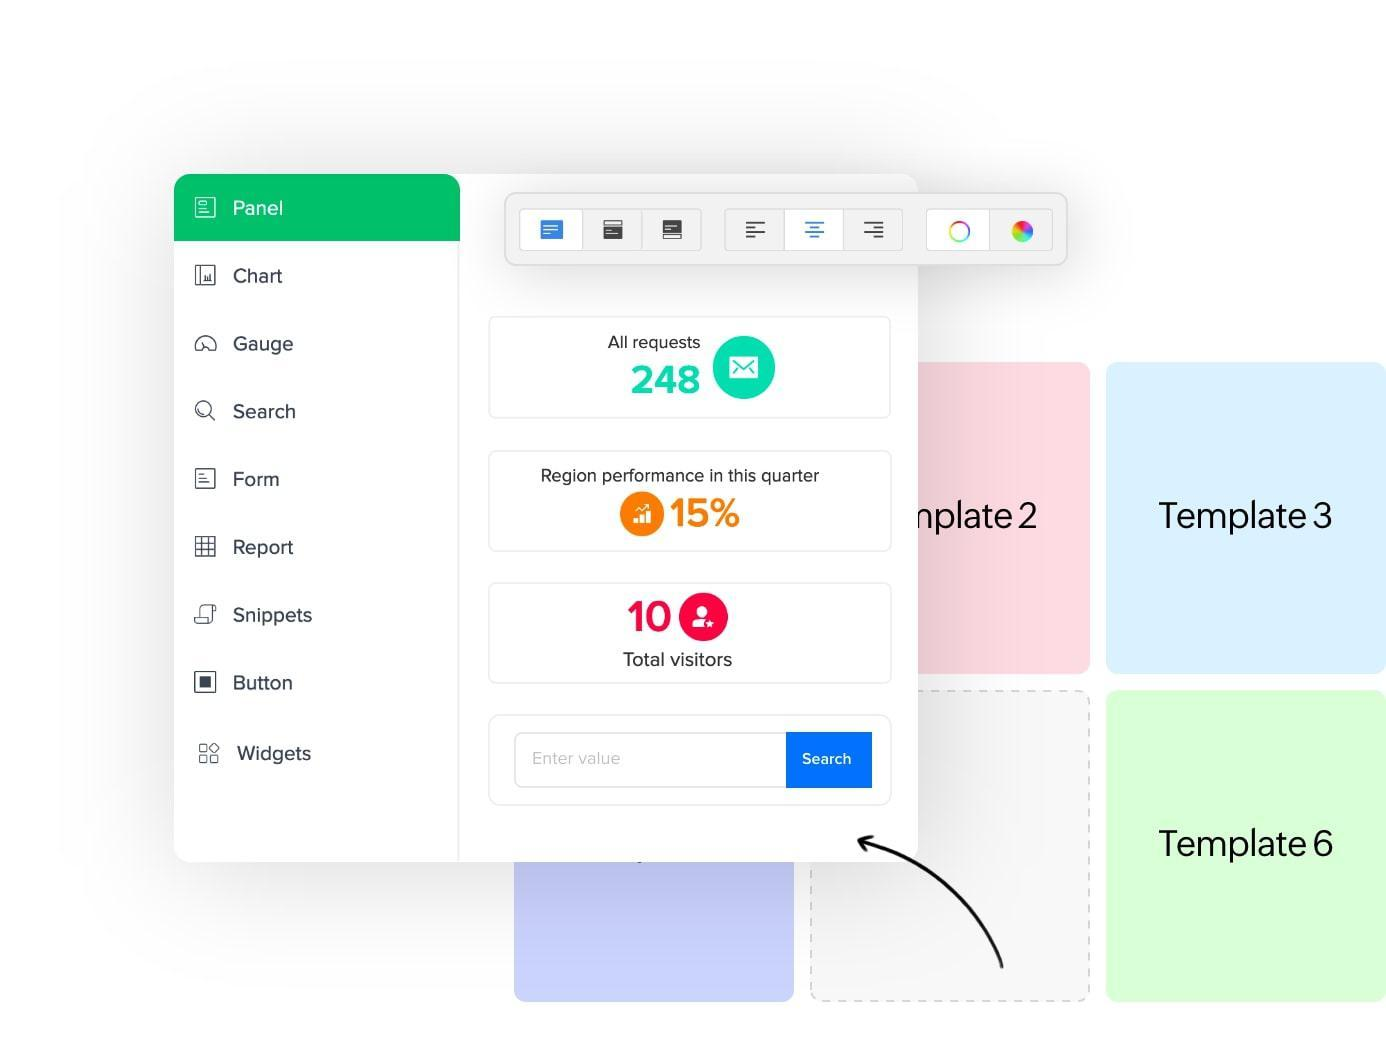button: (786, 732, 875, 792)
icon: (189, 259, 222, 293), (189, 600, 220, 633), (727, 354, 762, 383), (190, 465, 222, 495), (198, 738, 223, 775), (192, 665, 220, 698), (192, 192, 221, 222), (192, 533, 220, 563), (741, 217, 771, 245), (1012, 219, 1038, 247), (691, 603, 717, 632), (195, 332, 223, 357), (190, 400, 219, 424), (860, 219, 888, 243), (799, 219, 829, 242), (542, 218, 567, 244), (601, 218, 627, 242), (949, 218, 972, 245), (633, 502, 654, 532), (659, 220, 688, 241)
input: (517, 736, 786, 788)
label: (1149, 494, 1338, 535), (1148, 826, 1336, 864), (230, 600, 321, 633), (238, 738, 325, 769), (230, 399, 310, 427), (231, 674, 301, 707), (232, 535, 301, 568), (232, 330, 301, 362), (232, 196, 293, 225), (234, 263, 293, 292), (230, 468, 288, 494)
